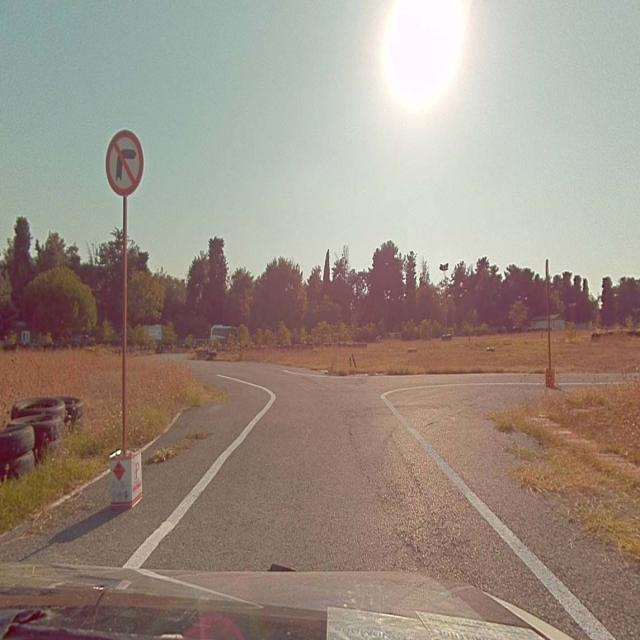sagadonulmez: (105, 130, 143, 194)
